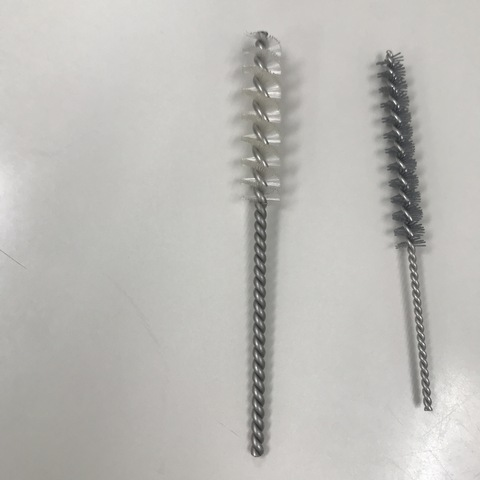Twist Brush-A: (370, 38, 438, 411)
Twist Brush-B: (232, 32, 289, 464)
